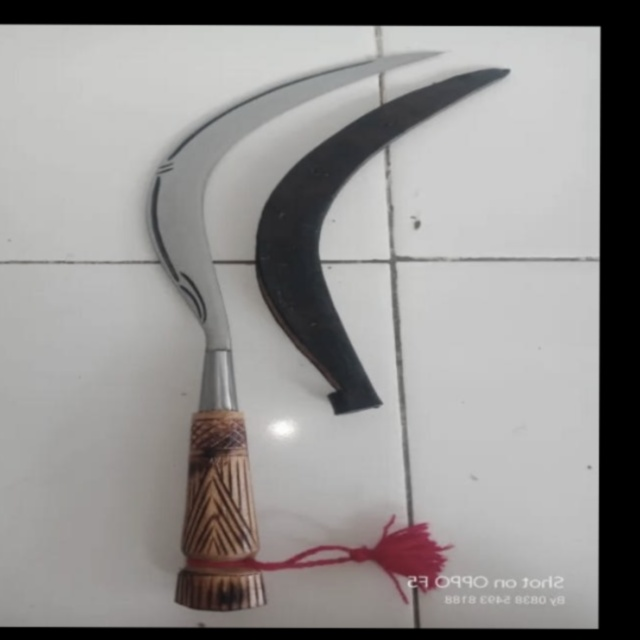Sharp-Object: (141, 46, 447, 619)
